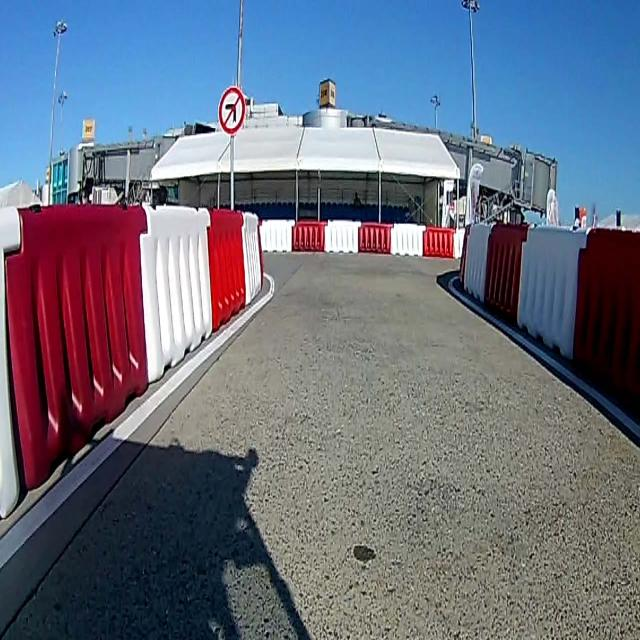soladonulmez: (218, 85, 243, 128)
